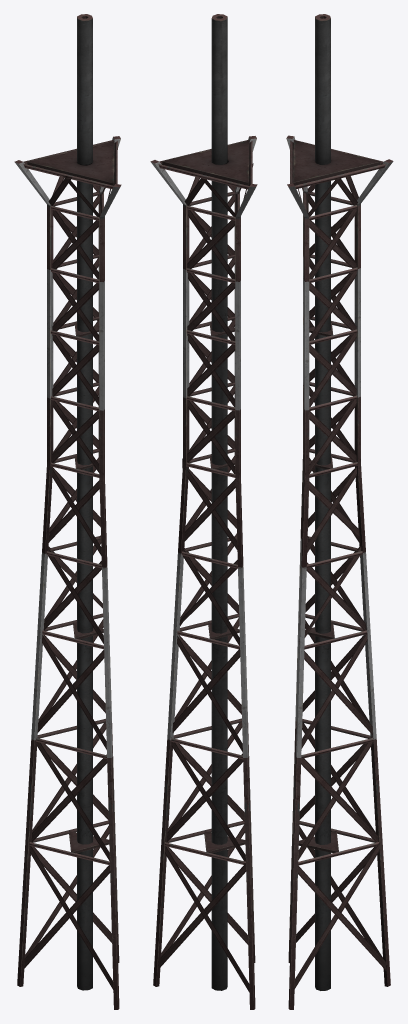
File: chimney_02.FBX
3 views of the same model, side by side, from view 1: azimuth 90°, elevation 25°; view 2: azimuth 210°, elevation 25°; view 3: azimuth 270°, elevation 25° (orthographic).
Visible parts, largest first — view 1: Object138; view 2: Object138; view 3: Object138.
Boxes of the visible parts, x1=… form: Object138: x1=14, y1=14, x2=121, y2=1009; Object138: x1=150, y1=14, x2=257, y2=1009; Object138: x1=286, y1=14, x2=393, y2=1009.
Bounding box in the file's own units: 353 × 312 × 3109.
Materials: 1 (1 with a texture image).
